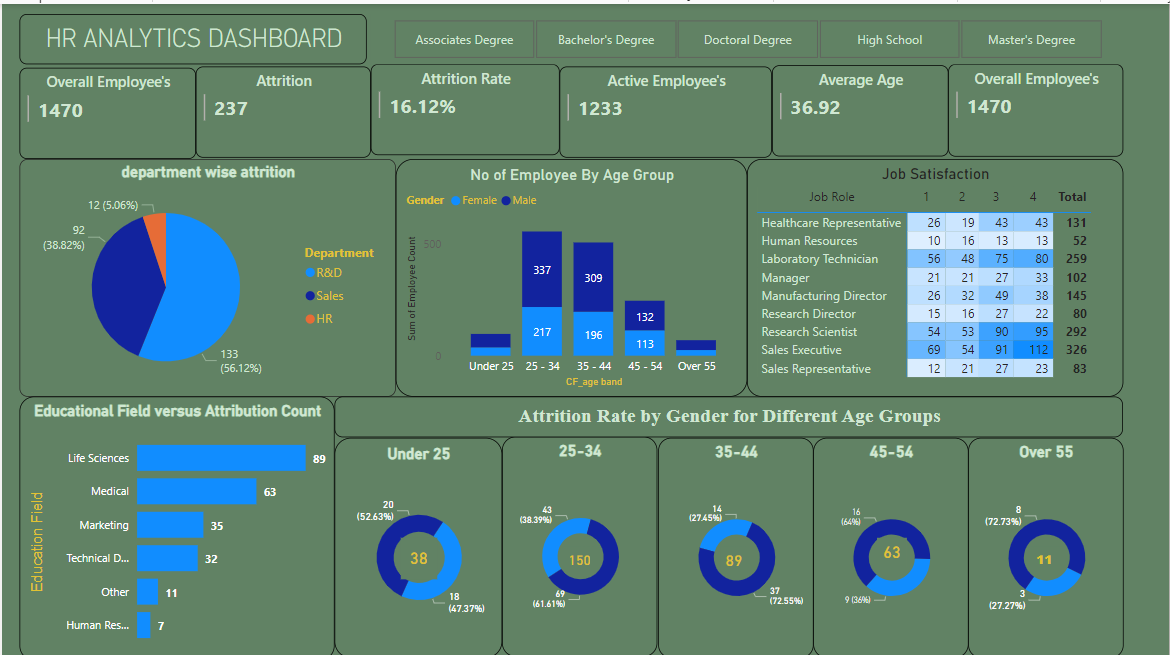

The page's visual inventory and layout, read from the dashboard file:
{"tool":"powerbi","page":{"name":"Page 1","canvas":[1280,720],"ordinal":0},"visuals":[{"type":"multiRowCard","title":"Overall Employee''s","fields":{"Values":["Sum(HR data.Employee Count)"]},"box":[19.2,69.9,193.3,100.1],"z":0},{"type":"multiRowCard","title":"Attrition ","fields":{"Values":["Sum(HR data.Attrition Count)"]},"box":[212.5,68.6,191.9,100.1],"z":1000},{"type":"multiRowCard","title":"Attrition Rate","fields":{"Values":["HR data.attrition rate"]},"box":[404.5,65.8,207,100.1],"z":2000},{"type":"multiRowCard","title":"Active Employee''s","fields":{"Values":["HR data.Active Employee's"]},"box":[611.5,68.6,233.1,100.1],"z":3000},{"type":"multiRowCard","title":"Average Age","fields":{"Values":["Avg(HR data.Age)"]},"box":[844.6,67.2,193.3,100.1],"z":4000},{"type":"multiRowCard","title":"Overall Employee''s","fields":{"Values":["Sum(HR data.Employee Count)"]},"box":[1037.9,65.8,191.9,101.5],"z":5000},{"type":"pieChart","title":"department wise attrition","fields":{"Category":["HR data.Department"],"Y":["Sum(HR data.Attrition Count)"]},"box":[19.2,170,412.7,260.5],"z":6000},{"type":"columnChart","title":"No of Employee By Age Group","fields":{"Category":["HR data.CF_age band"],"Y":["Sum(HR data.Employee Count)"],"Series":["HR data.Gender"]},"box":[431.9,170,385.3,260.5],"z":7000},{"type":"pivotTable","title":"Job Satisfaction","fields":{"Rows":["HR data.Job Role"],"Columns":["HR data.Job Satisfaction"],"Values":["Sum(HR data.Employee Count)"]},"box":[817.1,170,412.7,260.5],"z":8000},{"type":"barChart","title":"Educational Field versus  Attribution Count","fields":{"Category":["HR data.Education Field"],"Y":["Sum(HR data.Attrition Count)"]},"box":[19.2,430.5,345.5,289.3],"z":9000},{"type":"donutChart","title":"Under 25","fields":{"Category":["HR data.Gender"],"Y":["Sum(HR data.Attrition Count)"],"Series":["HR data.CF_age band"]},"box":[364.7,475.8,183.7,241.3],"z":10000},{"type":"donutChart","title":"25-34","fields":{"Category":["HR data.Gender"],"Y":["Sum(HR data.Attrition Count)"],"Series":["HR data.CF_age band"]},"box":[548.4,474.4,170,241.3],"z":11000},{"type":"donutChart","title":"35-44","fields":{"Category":["HR data.Gender"],"Y":["Sum(HR data.Attrition Count)"],"Series":["HR data.CF_age band"]},"box":[719.8,475.8,170,241.3],"z":12000},{"type":"donutChart","title":"45-54","fields":{"Category":["HR data.Gender"],"Y":["Sum(HR data.Attrition Count)"],"Series":["HR data.CF_age band"]},"box":[889.8,475.8,170,241.3],"z":13000},{"type":"donutChart","title":"Over 55","fields":{"Category":["HR data.Gender"],"Y":["Sum(HR data.Attrition Count)"],"Series":["HR data.CF_age band"]},"box":[1059.8,475.8,170,241.3],"z":14000},{"type":"textbox","box":[364.7,430.5,865.1,45],"z":15000},{"type":"card","fields":{"Values":["Sum(HR data.Attrition Count)"]},"box":[437.4,585.4,39.8,45.2],"z":16000},{"type":"card","fields":{"Values":["Sum(HR data.Attrition Count)"]},"box":[615.6,595,35.6,23.3],"z":17000},{"type":"card","fields":{"Values":["Sum(HR data.Attrition Count)"]},"box":[788.4,595,28.8,23.3],"z":18000},{"type":"card","fields":{"Values":["Sum(HR data.Attrition Count)"]},"box":[959.7,585.4,32.9,32.9],"z":19000},{"type":"card","fields":{"Values":["Sum(HR data.Attrition Count)"]},"box":[1124.3,595,38.4,23.3],"z":20000},{"type":"textbox","box":[19.2,11,381.2,54.8],"z":21000},{"type":"slicer","fields":{"Values":["HR data.Education"]},"box":[404.5,11,825.4,54.8],"z":22000}]}

Visuals, with their boxes in screenshot pixels (x1, y1, x2, y2), scaled from the page's 1280x720 canvas onto the 1170x655 screenshot:
"Overall Employee''s" multiRowCard: x1=18, y1=64, x2=194, y2=155
"Attrition " multiRowCard: x1=194, y1=62, x2=370, y2=153
"Attrition Rate" multiRowCard: x1=370, y1=60, x2=559, y2=151
"Active Employee''s" multiRowCard: x1=559, y1=62, x2=772, y2=153
"Average Age" multiRowCard: x1=772, y1=61, x2=949, y2=152
"Overall Employee''s" multiRowCard: x1=949, y1=60, x2=1124, y2=152
"department wise attrition" pieChart: x1=18, y1=155, x2=395, y2=392
"No of Employee By Age Group" columnChart: x1=395, y1=155, x2=747, y2=392
"Job Satisfaction" pivotTable: x1=747, y1=155, x2=1124, y2=392
"Educational Field versus  Attribution Count" barChart: x1=18, y1=392, x2=333, y2=654
"Under 25" donutChart: x1=333, y1=433, x2=501, y2=652
"25-34" donutChart: x1=501, y1=432, x2=657, y2=651
"35-44" donutChart: x1=658, y1=433, x2=813, y2=652
"45-54" donutChart: x1=813, y1=433, x2=969, y2=652
"Over 55" donutChart: x1=969, y1=433, x2=1124, y2=652
textbox: x1=333, y1=392, x2=1124, y2=433
card - Sum(HR data.Attrition Count): x1=400, y1=533, x2=436, y2=574
card - Sum(HR data.Attrition Count): x1=563, y1=541, x2=595, y2=562
card - Sum(HR data.Attrition Count): x1=721, y1=541, x2=747, y2=562
card - Sum(HR data.Attrition Count): x1=877, y1=533, x2=907, y2=562
card - Sum(HR data.Attrition Count): x1=1028, y1=541, x2=1063, y2=562
textbox: x1=18, y1=10, x2=366, y2=60
slicer - HR data.Education: x1=370, y1=10, x2=1124, y2=60
